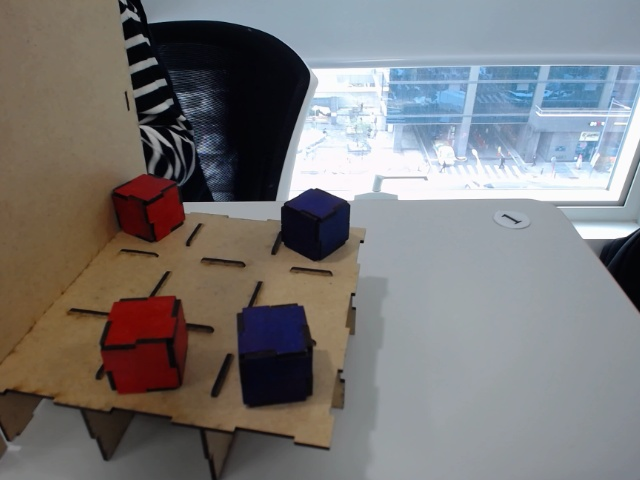blue: (235, 304, 315, 408), (281, 188, 351, 259)
red: (101, 298, 192, 395), (112, 175, 186, 244)
